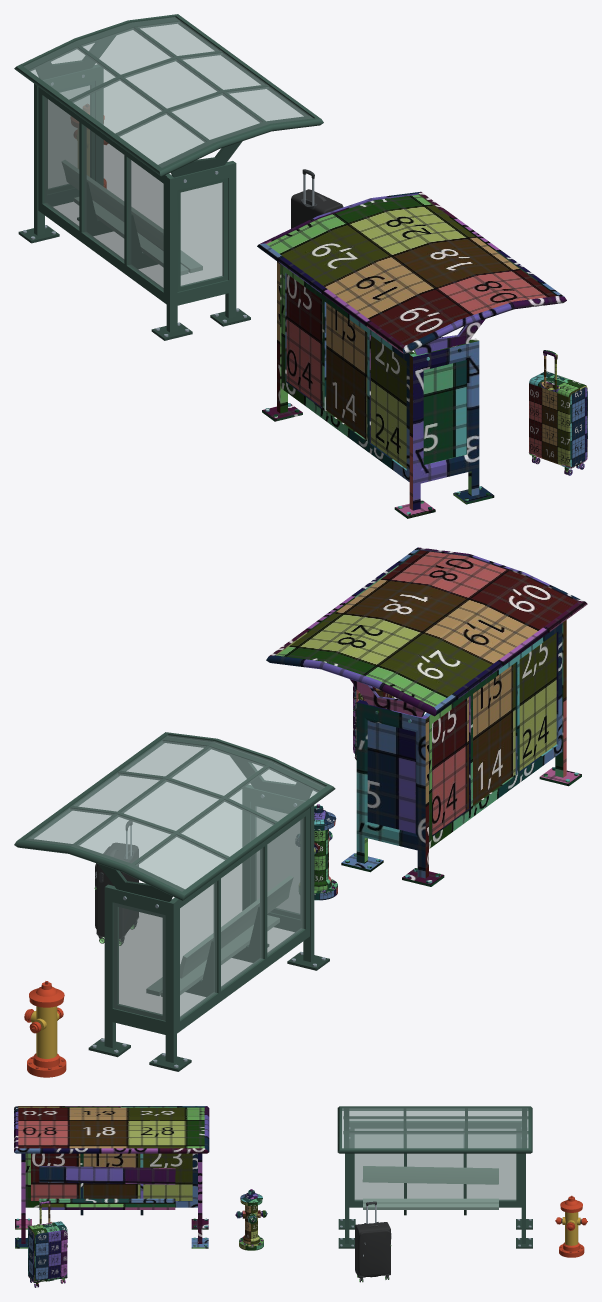
Rendered from Week 13 - bus station_UV.fbx.
3 views of the same model, one above another, from view 1: azimuth 30°, elevation 25°; view 2: azimuth 150°, elevation 25°; view 3: azimuth 270°, elevation 25° (orthographic). The views are drawn at different scales.
Parts seen in each view (by area): view 1: polySurface64; view 2: polySurface64; view 3: polySurface64.
Part boxes in pixels (x1,y1,x2,y2): polySurface64: (14, 14, 587, 518); polySurface64: (14, 547, 587, 1077); polySurface64: (14, 1106, 587, 1287).
Size of the model in its own units: 15.65 by 14.62 by 57.95.
